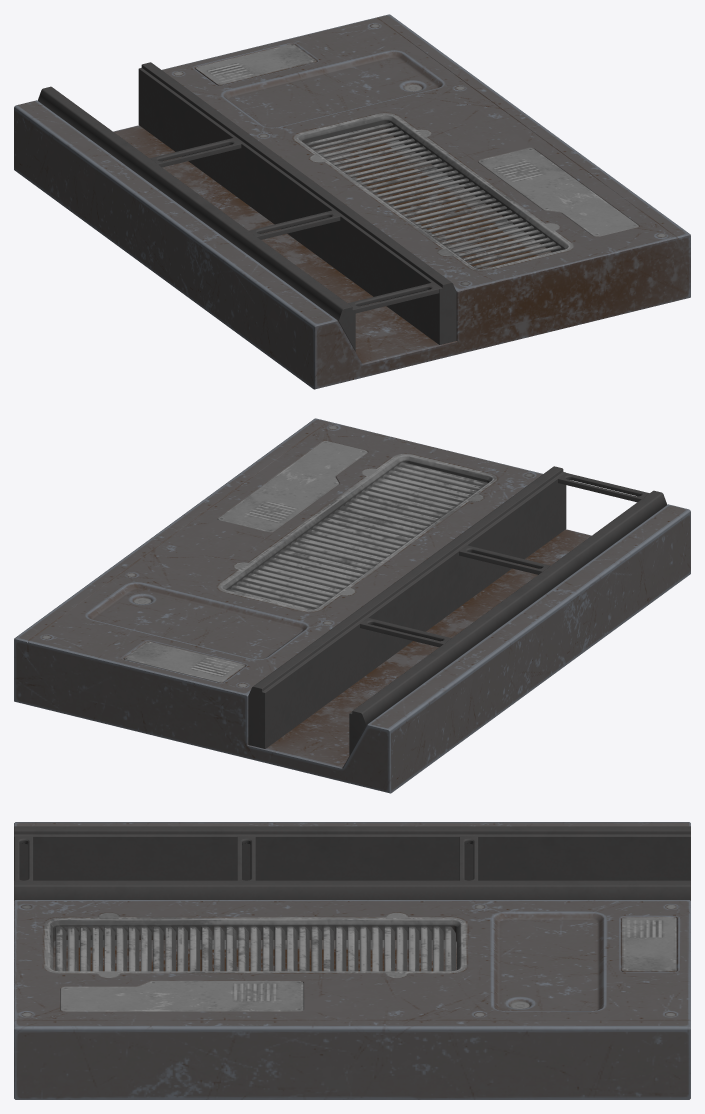
File: SM_RoomStyle_Floor09.fbx
The picture shows the model from 3 angles, top to bottom: view 1: azimuth 30°, elevation 25°; view 2: azimuth 150°, elevation 25°; view 3: azimuth 270°, elevation 25°; orthographic projection. The views are drawn at different scales.
Visible parts, largest first — view 1: SM_RoomStyle_Floor09_LOD0; view 2: SM_RoomStyle_Floor09_LOD0; view 3: SM_RoomStyle_Floor09_LOD0.
Part boxes in pixels (x1,y1,x2,y2): SM_RoomStyle_Floor09_LOD0: (14, 14, 690, 389); SM_RoomStyle_Floor09_LOD0: (14, 418, 690, 793); SM_RoomStyle_Floor09_LOD0: (14, 822, 690, 1099).
Bounding box in the file's own units: 260 × 360 × 48.78.
Materials: 2 (1 with a texture image).
